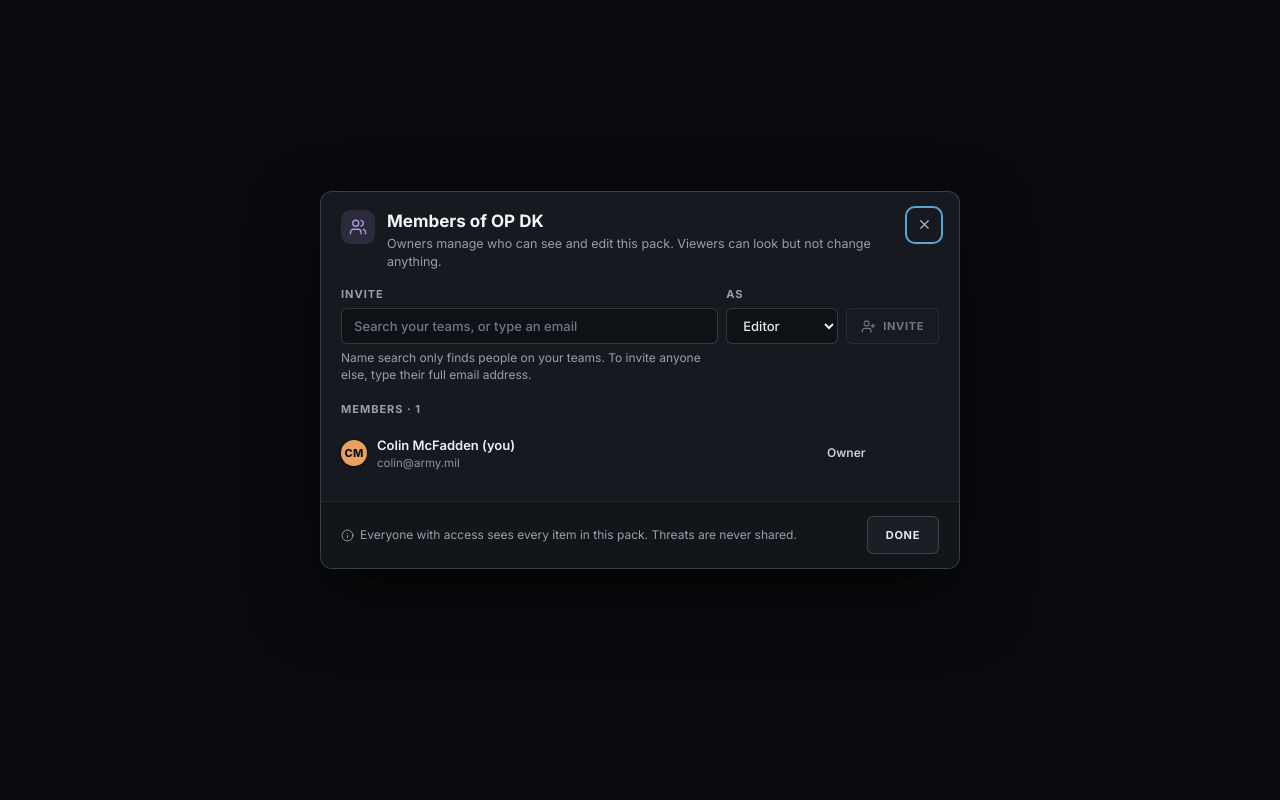
it: inviting from the Members dialog › chooses a teammate from the suggestions, and adds them only from Invite, with the role chosen after
Expected: the button "Invite" is disabled, [846,308,939,344]
In the dropdown labelled "Invite": (530,326) [341,308,718,344], type "Jam"
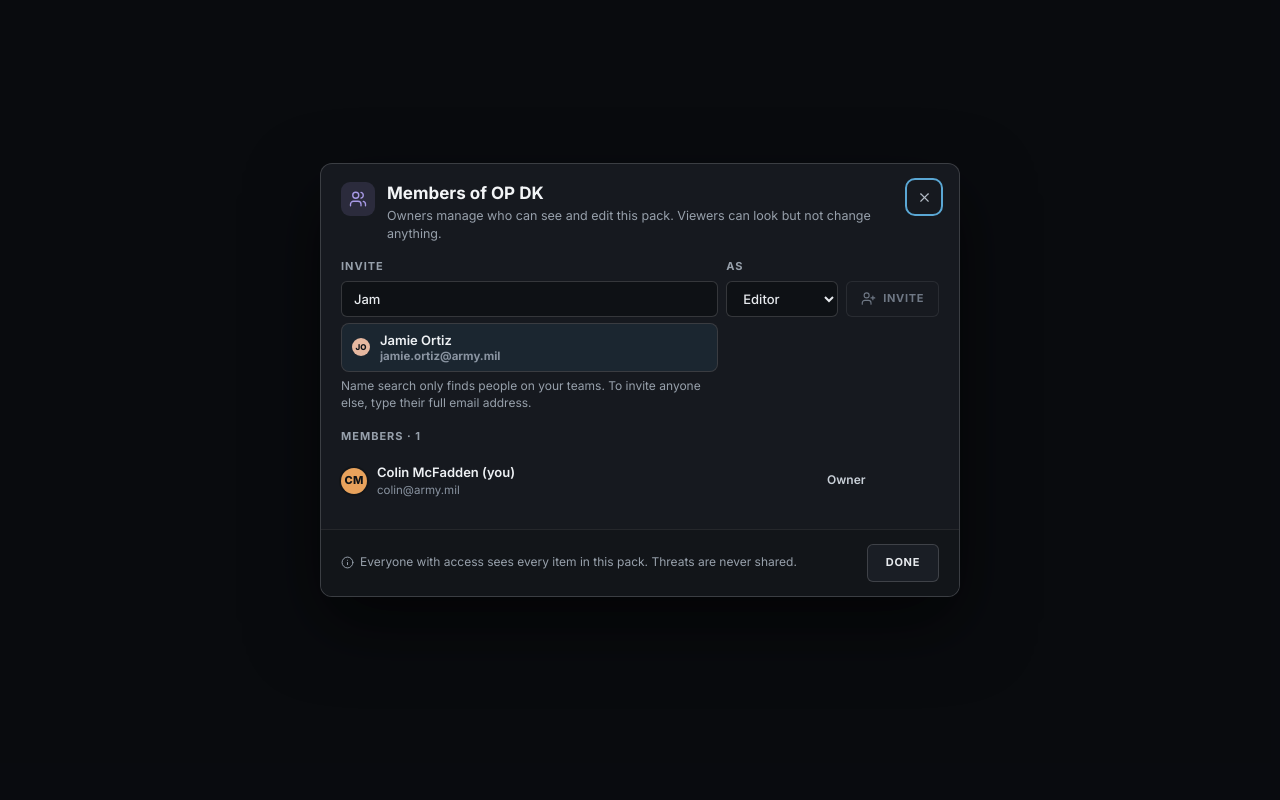
Click the option "JO Jamie Ortiz jamie.ortiz@army.mil": (416,340) [342,324,717,371]
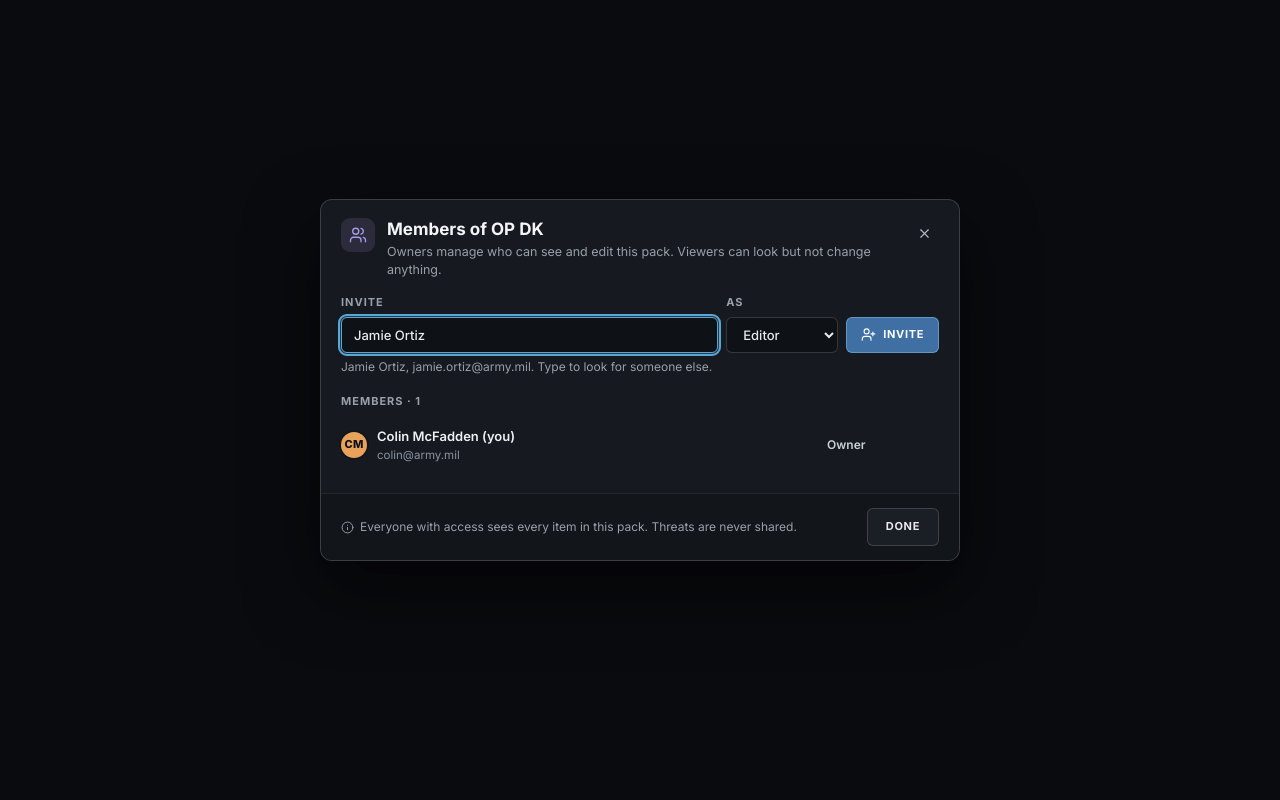
Now the dropdown labelled "Invite" holds "Jamie Ortiz", box [341,317,718,353]
Now the button "Invite" is enabled, box [846,317,939,353]
Select "Viewer" in the dropdown labelled "As": (782,335) [726,317,838,353]
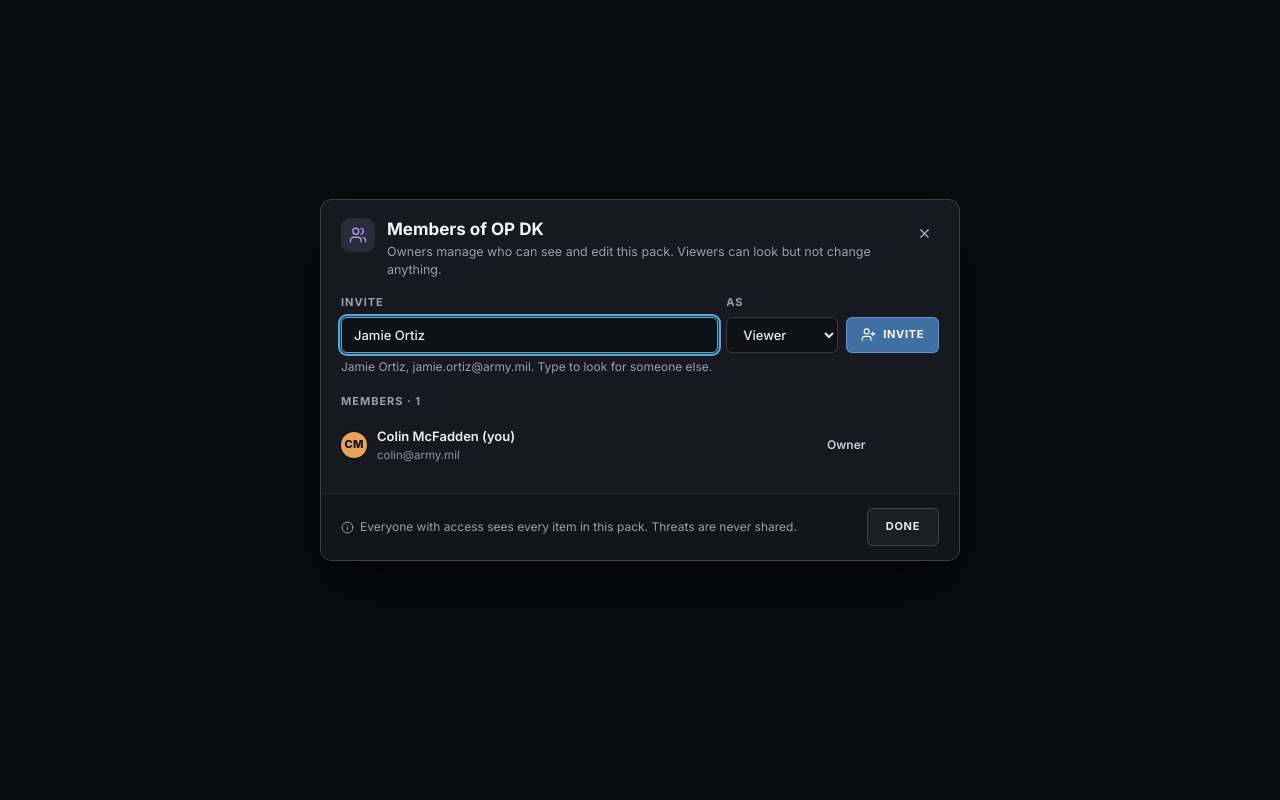
Click the button "Invite": (893,335) [846,317,939,353]
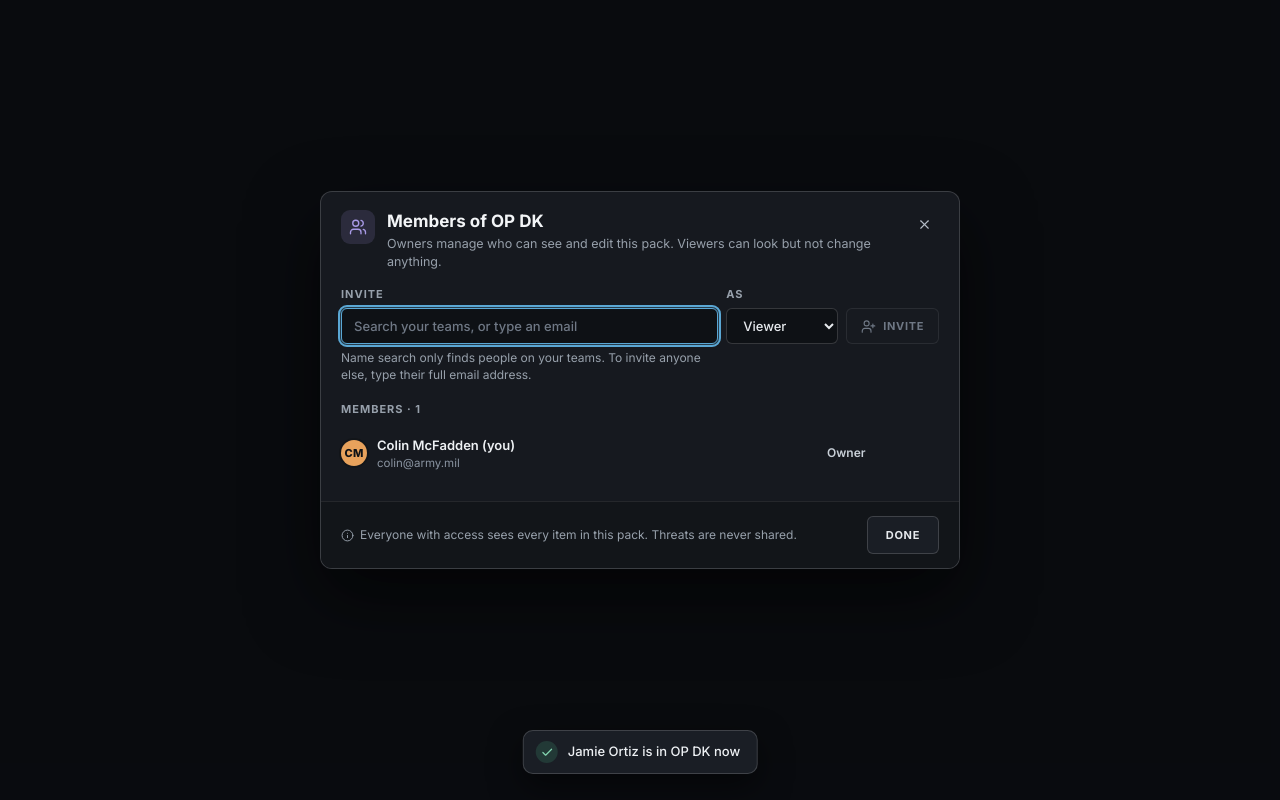
Now the text "Jamie Ortiz is in OP DK now" is shown, box [568,743,740,759]
Now the dropdown labelled "Invite" is empty, box [341,308,718,344]
Now the button "Invite" is disabled, box [846,308,939,344]
